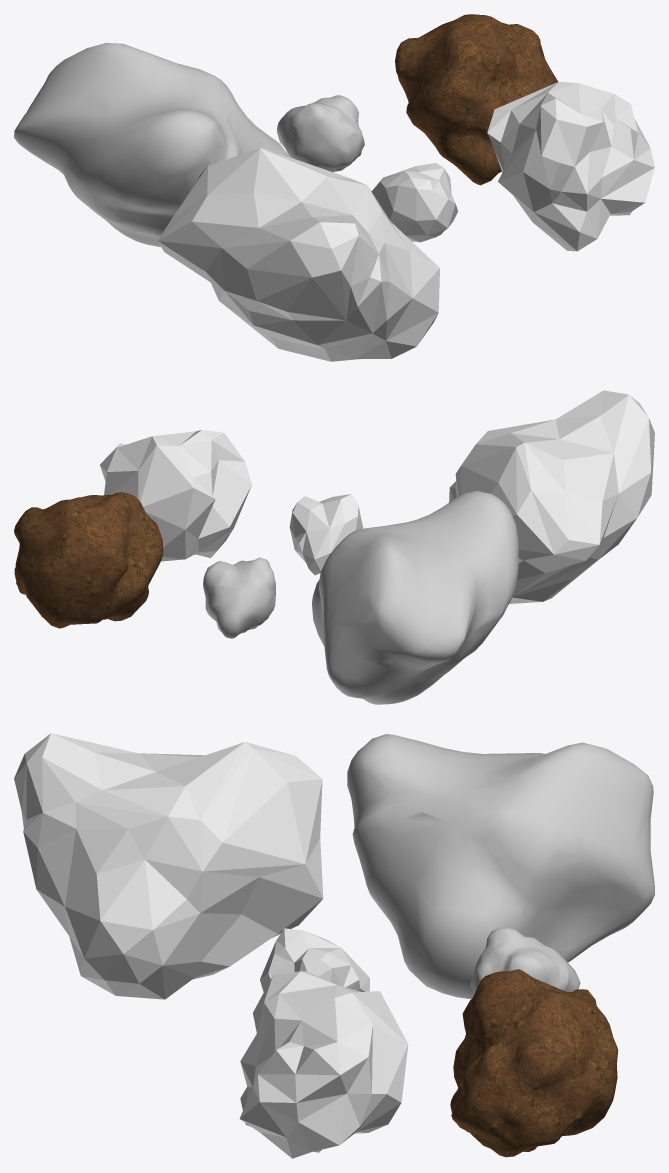
The model's file is asteroids1.dae.
3 renders of one model, top to bottom at view 1: azimuth 30°, elevation 25°; view 2: azimuth 150°, elevation 25°; view 3: azimuth 270°, elevation 25°, orthographic. The views are drawn at different scales.
Visible parts, largest first — view 1: asteroid3hull, asteroid3, asteroid2hull, asteroid2, asteroid1, asteroid1hull; view 2: asteroid3, asteroid3hull, asteroid2, asteroid2hull, asteroid1, asteroid1hull; view 3: asteroid3hull, asteroid3, asteroid2, asteroid2hull, asteroid1hull, asteroid1.
Part boxes in pixels (x1,y1,x2,y2): asteroid3hull: (158,147,439,361); asteroid3: (14,43,288,247); asteroid2hull: (487,81,654,251); asteroid2: (395,14,557,185); asteroid1: (277,95,364,172); asteroid1hull: (371,163,457,242); asteroid3: (312,491,518,704); asteroid3hull: (449,390,654,603); asteroid2: (14,492,163,628); asteroid2hull: (100,430,251,561); asteroid1: (203,557,275,638); asteroid1hull: (289,494,363,575); asteroid3hull: (14,733,323,999); asteroid3: (347,734,654,999); asteroid2: (450,969,618,1157); asteroid2hull: (239,971,408,1158); asteroid1hull: (260,928,369,991); asteroid1: (471,927,580,994).
Size of the model in its own units: 15.77 by 15.25 by 5.69.
